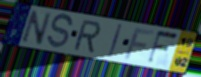F: (145, 29, 180, 66), (123, 27, 157, 61)
I: (107, 23, 124, 59)
N: (20, 8, 53, 47)
R: (72, 20, 102, 54)
S: (45, 13, 74, 51)
